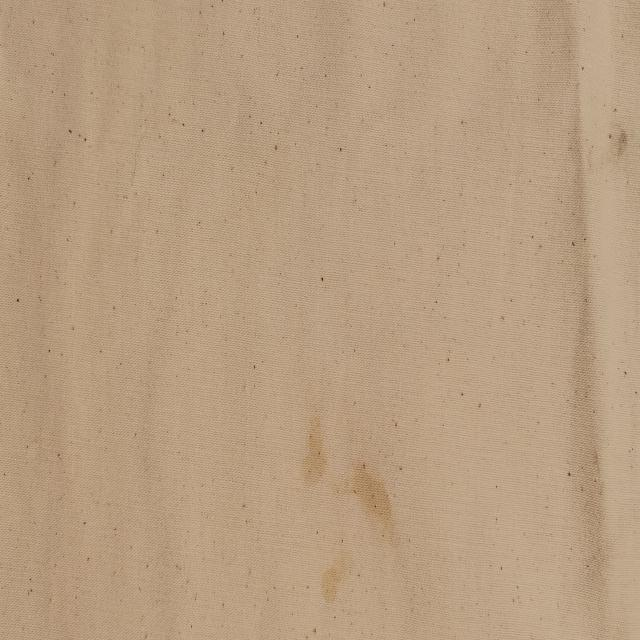taaaches: (343, 450, 396, 533), (296, 406, 331, 486), (317, 557, 349, 609), (610, 110, 634, 172)
